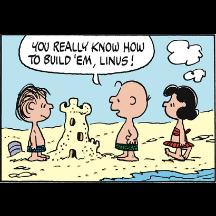charlie: (110, 79, 150, 161)
